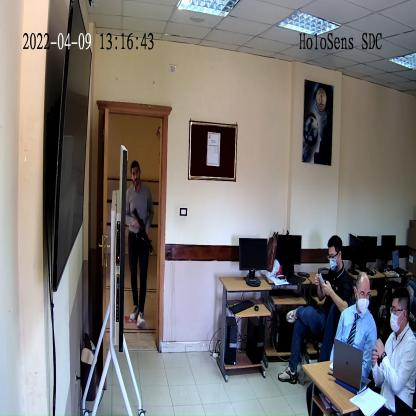handgun: (132, 207, 154, 256), (43, 401, 43, 401)
